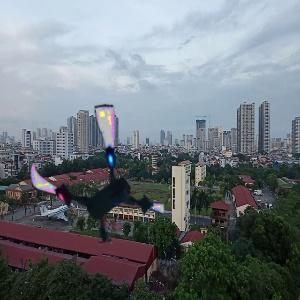drone: (23, 106, 171, 254)
